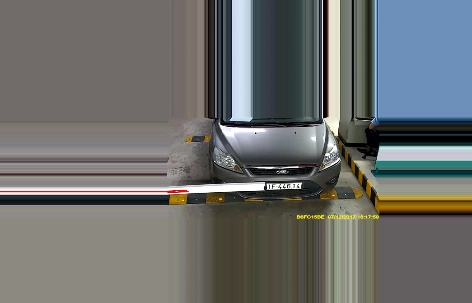plate: (261, 177, 303, 191)
